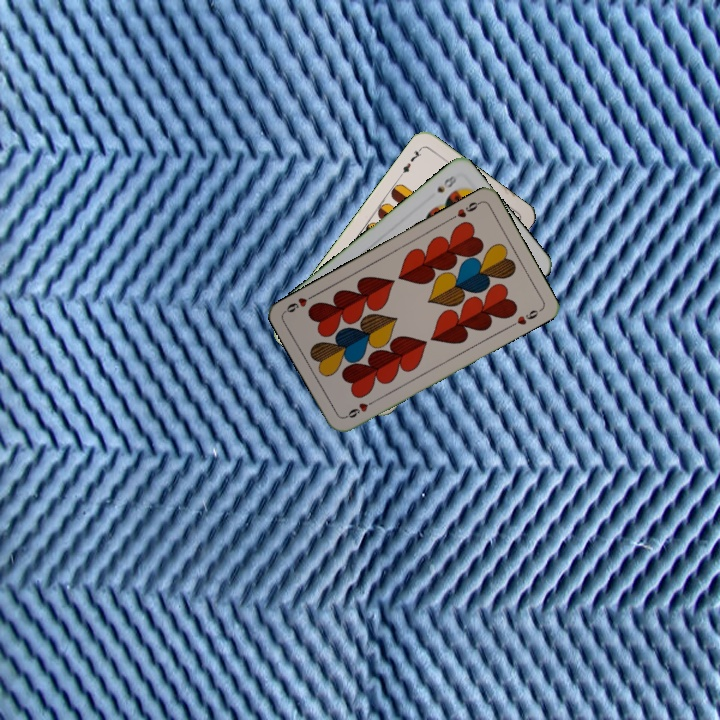E7: (396, 143, 425, 179)
H9: (446, 197, 484, 223), (341, 396, 378, 421)
S8: (433, 171, 459, 195)
